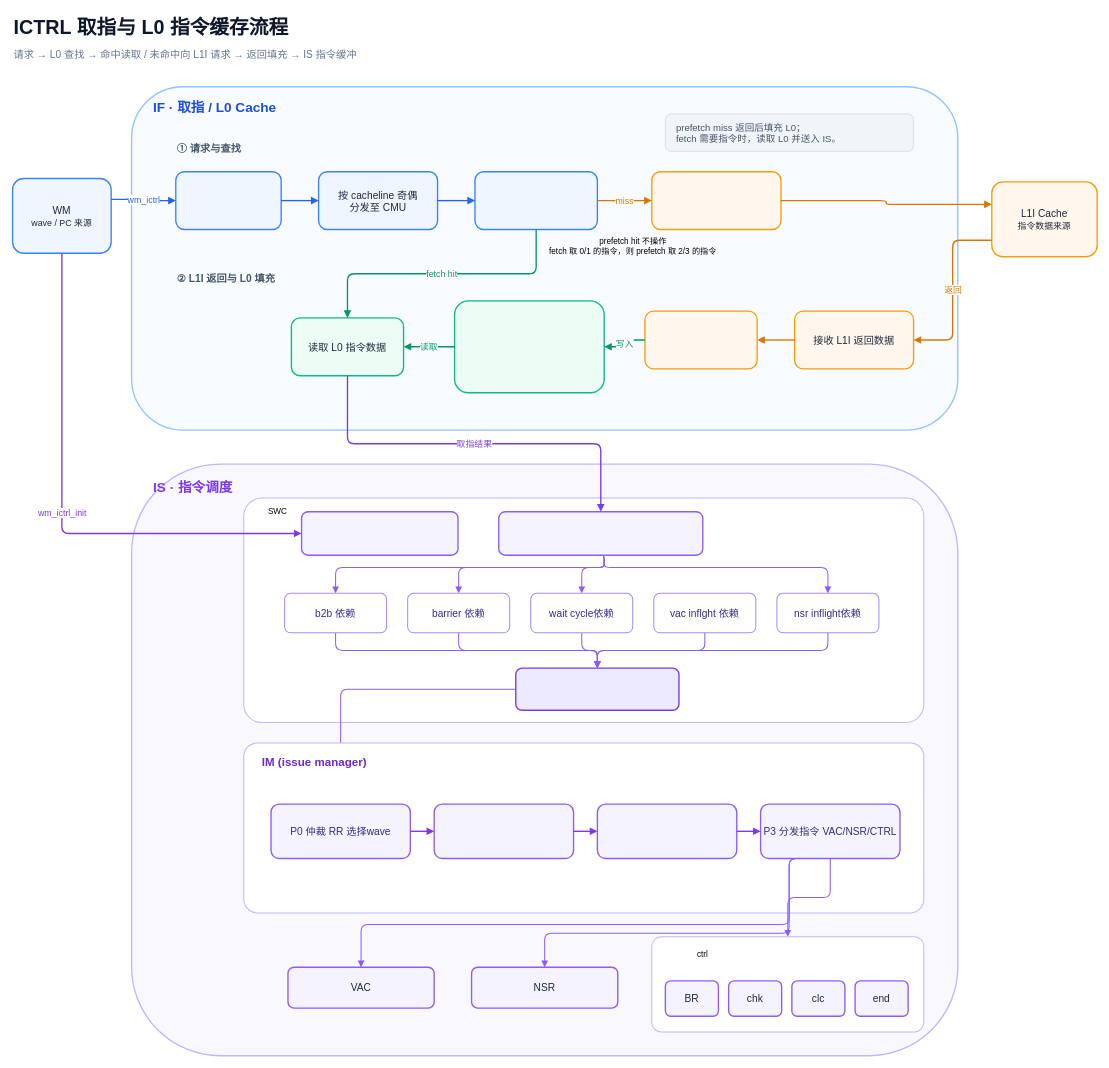
The diagram is 1109 pixels wide and 1068 high, and some of its shapes have lost their labels. The shapes that lost their labels are listed below. From the top down, each one's centre as x and y in pixels, then its label:
At (228,200): "接收取指 PC".
At (536,200): "L0 查找 fetch / prefetch".
At (716,200): "miss_q 记录 向 L1I 发起请求".
At (529,346): "L0 指令存储 ctrl buffer data store memory".
At (701,339): "预译码 ctrl / data words".
At (379,533): "初始化 wave 信息 PC、dm".
At (600,533): "每个 wave 的 instr buffer".
At (597,689): "全部满足，准备发射swc_instr_issue_valid".
At (503,831): "P1 读predicate CC 掩码准备".
At (666,831): "P2 CC计算,instance 掩码，区分CTRL/NSR".
